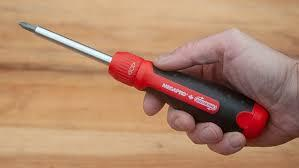screwdriver: (17, 20, 269, 137)
